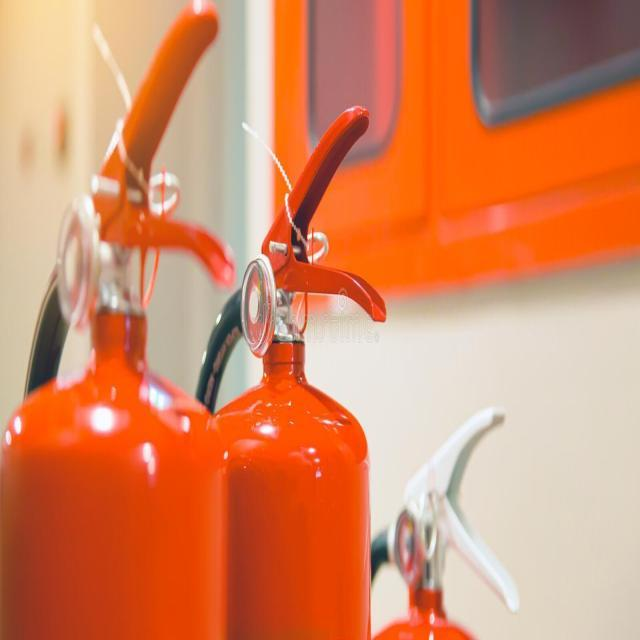fire_extinguisher: (0, 0, 240, 639), (184, 101, 390, 639), (326, 397, 524, 639)
